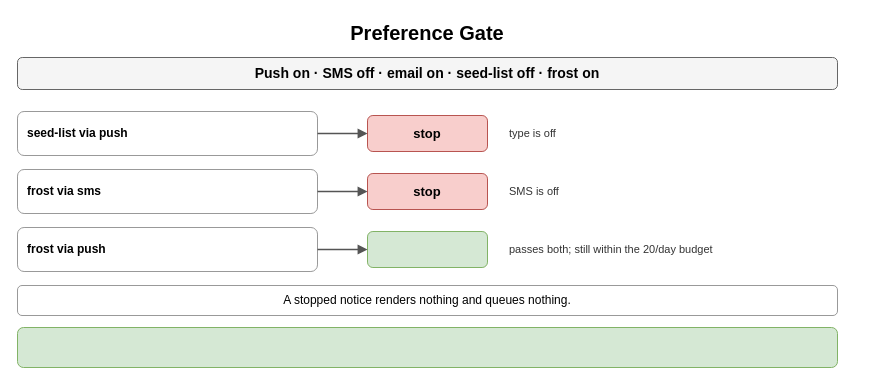
Some shapes in this 895 by 385 pixel diagram are drawn without their labels. Each missing label, with the centre of its shape:
Answer: stop · stop · send: pixel 427 347
send: pixel 427 249
